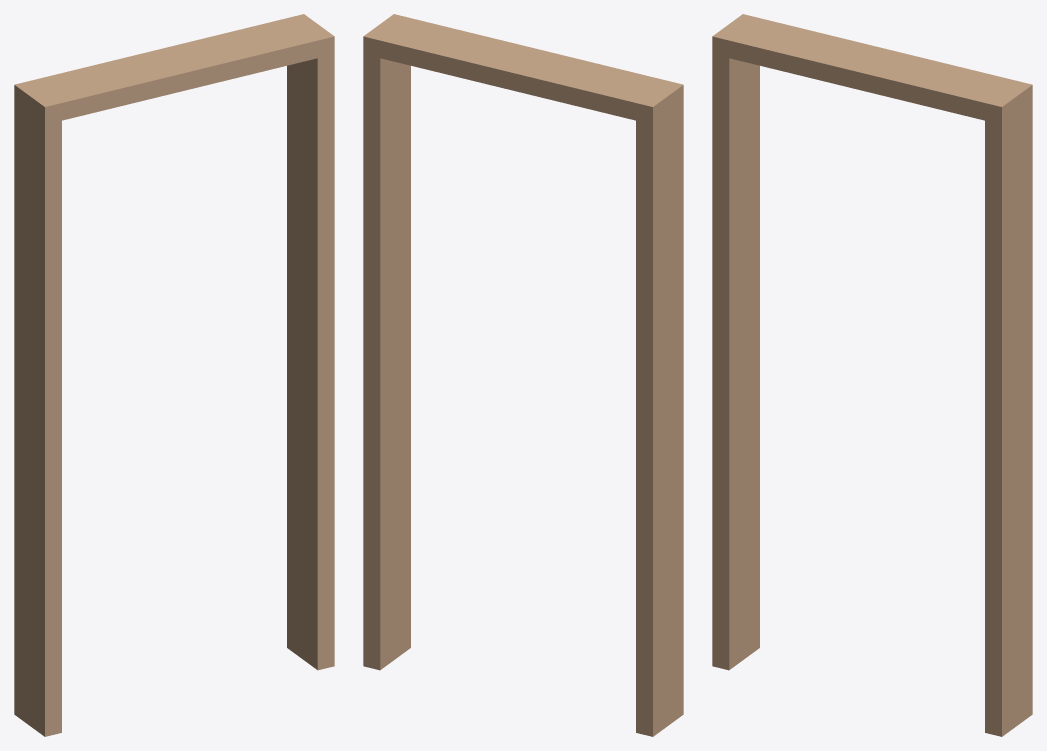
The model's file is doorwayOpen.glb.
3 views of the same model, side by side, from view 1: azimuth 30°, elevation 25°; view 2: azimuth 150°, elevation 25°; view 3: azimuth 330°, elevation 25° (orthographic).
Parts seen in each view (by area): view 1: doorwayOpen; view 2: doorwayOpen; view 3: doorwayOpen.
Part boxes in pixels (box(x1,y1,x2,y2)): doorwayOpen: box(14, 14, 334, 736); doorwayOpen: box(363, 14, 683, 736); doorwayOpen: box(712, 14, 1032, 736).
Size of the model in its own units: 0.486 by 1.01 by 0.0891.
